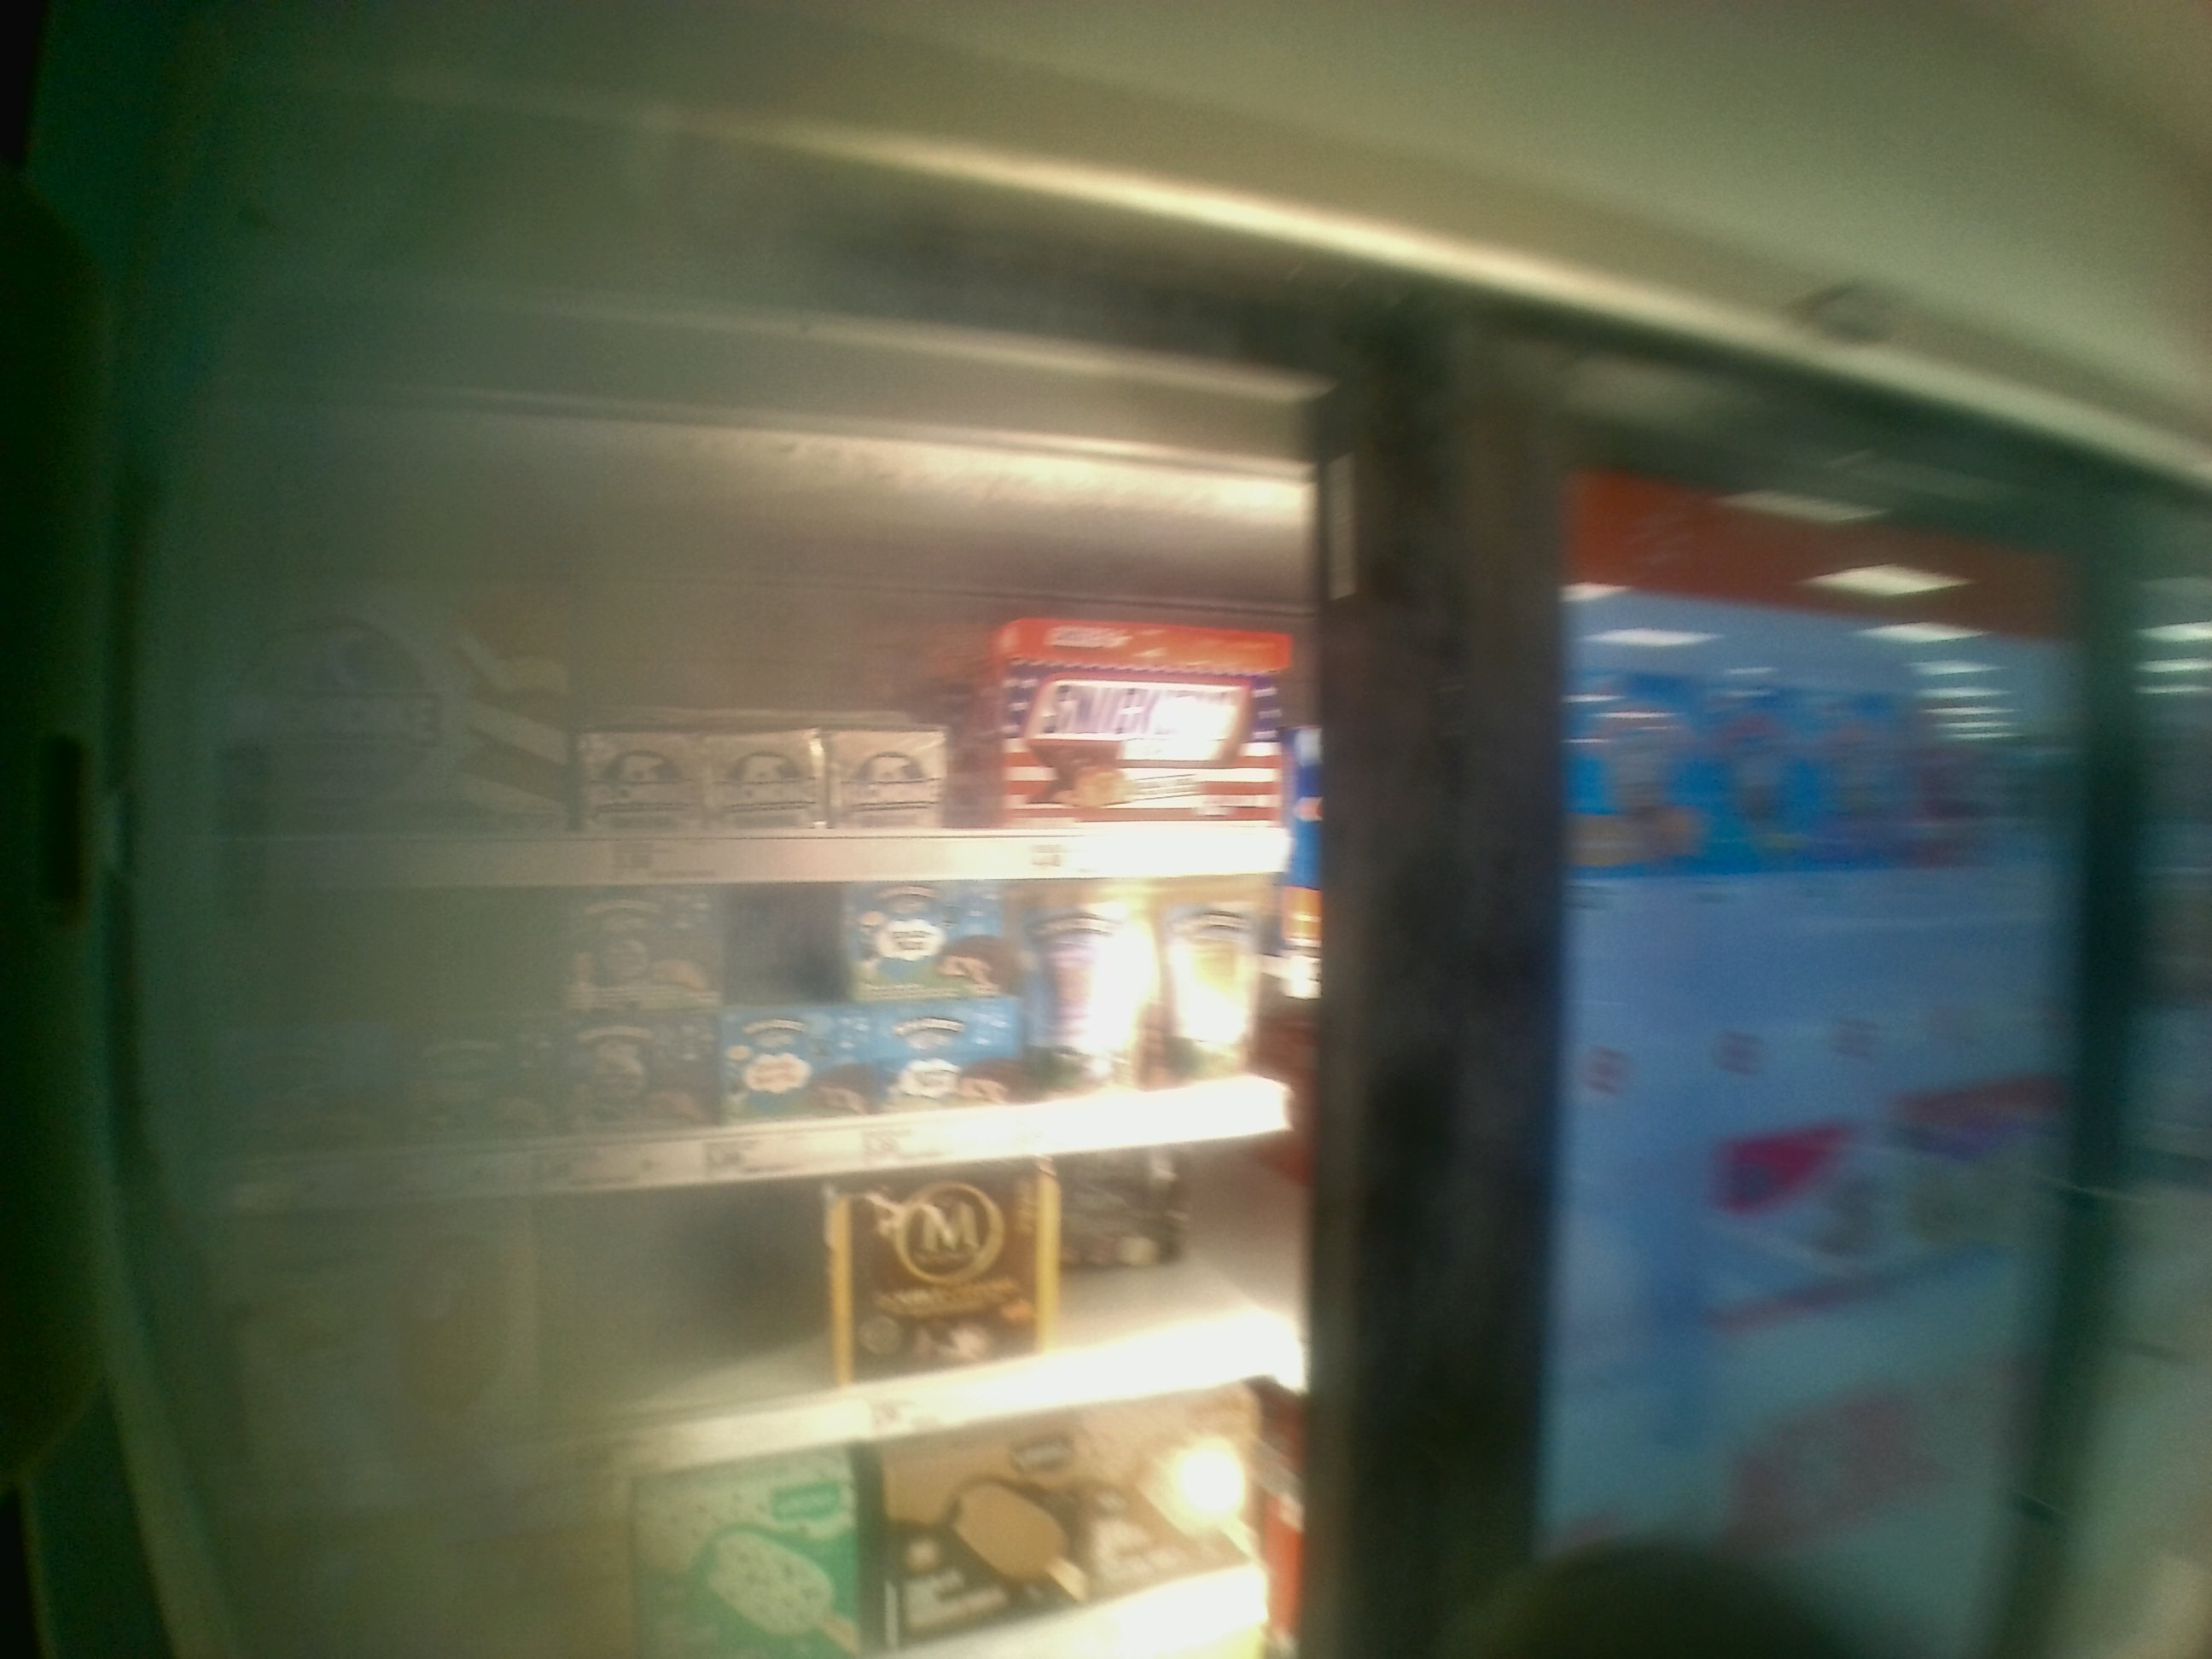ice-cream-shelf: (148, 425, 1325, 889)
